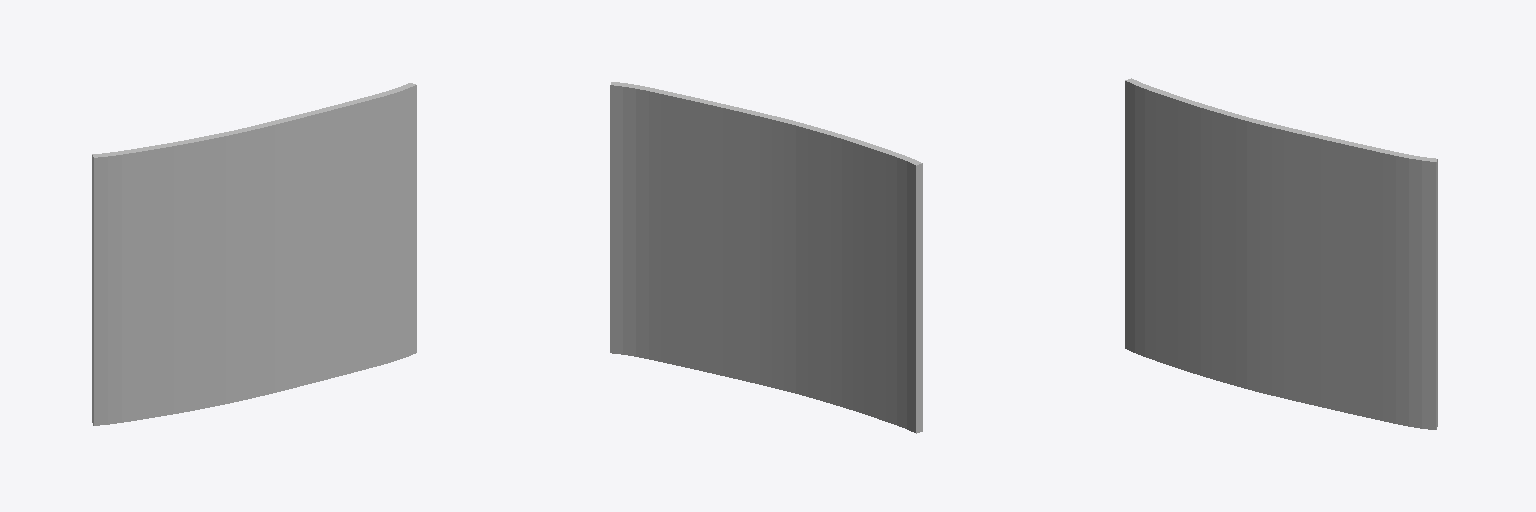
The model's file is Done.obj.
3 renders of one model, left to right at view 1: azimuth 30°, elevation 25°; view 2: azimuth 150°, elevation 25°; view 3: azimuth 330°, elevation 25°, orthographic.
Visible parts, largest first — view 1: Cube_Cube.001; view 2: Cube_Cube.001; view 3: Cube_Cube.001.
Boxes of the visible parts, <box> form: Cube_Cube.001: <box>92,83,416,425</box>; Cube_Cube.001: <box>610,82,922,433</box>; Cube_Cube.001: <box>1125,78,1437,429</box>.
Size of the model in its own units: 5.88 by 4.75 by 0.4923.